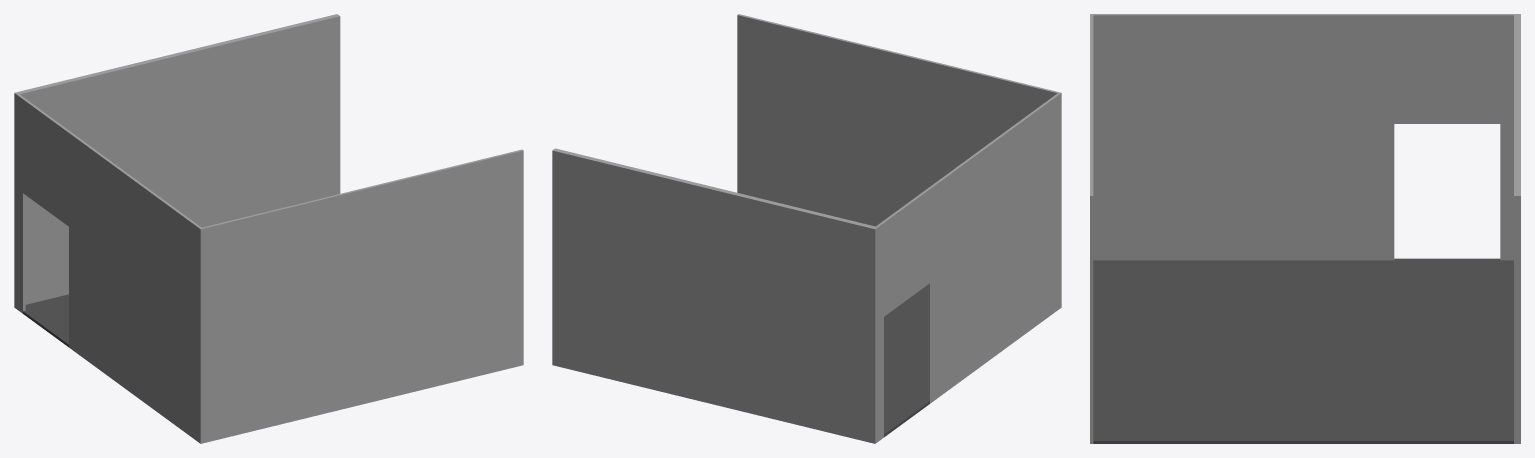
File: 4x2 second-2.obj
3 views of the same model, side by side, from view 1: azimuth 30°, elevation 25°; view 2: azimuth 150°, elevation 25°; view 3: azimuth 270°, elevation 25° (orthographic). The views are drawn at different scales.
Parts seen in each view (by area): view 1: 4x2 second-2; view 2: 4x2 second-2; view 3: 4x2 second-2.
Boxes of the visible parts, x1=… form: 4x2 second-2: x1=14, y1=14, x2=523, y2=443; 4x2 second-2: x1=552, y1=14, x2=1061, y2=443; 4x2 second-2: x1=1090, y1=14, x2=1520, y2=443.
Size of the model in its own units: 126 by 80 by 126.
1 material, 1 textured.
